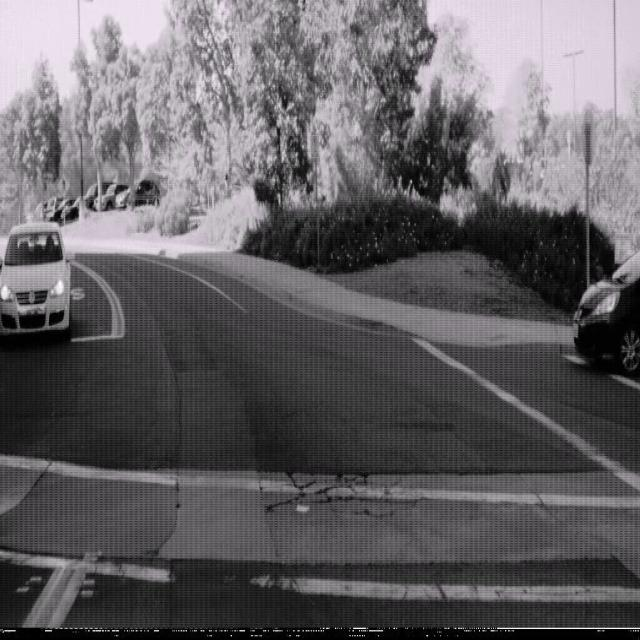pedestrianCrossing: (56, 172, 70, 200)
